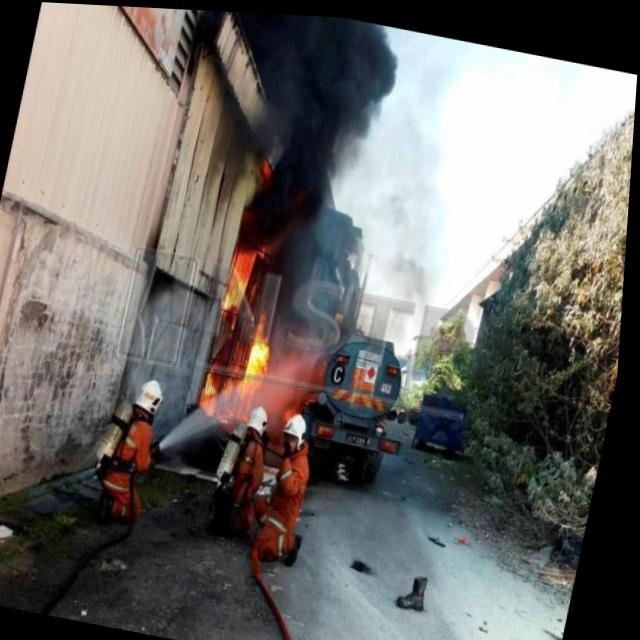fire: (195, 313, 284, 432)
